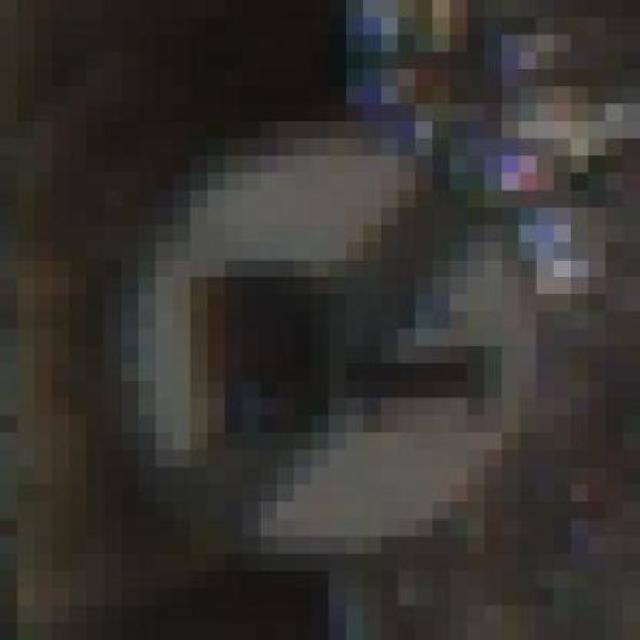Overtaking by trucks is prohibited: (69, 86, 571, 571)
